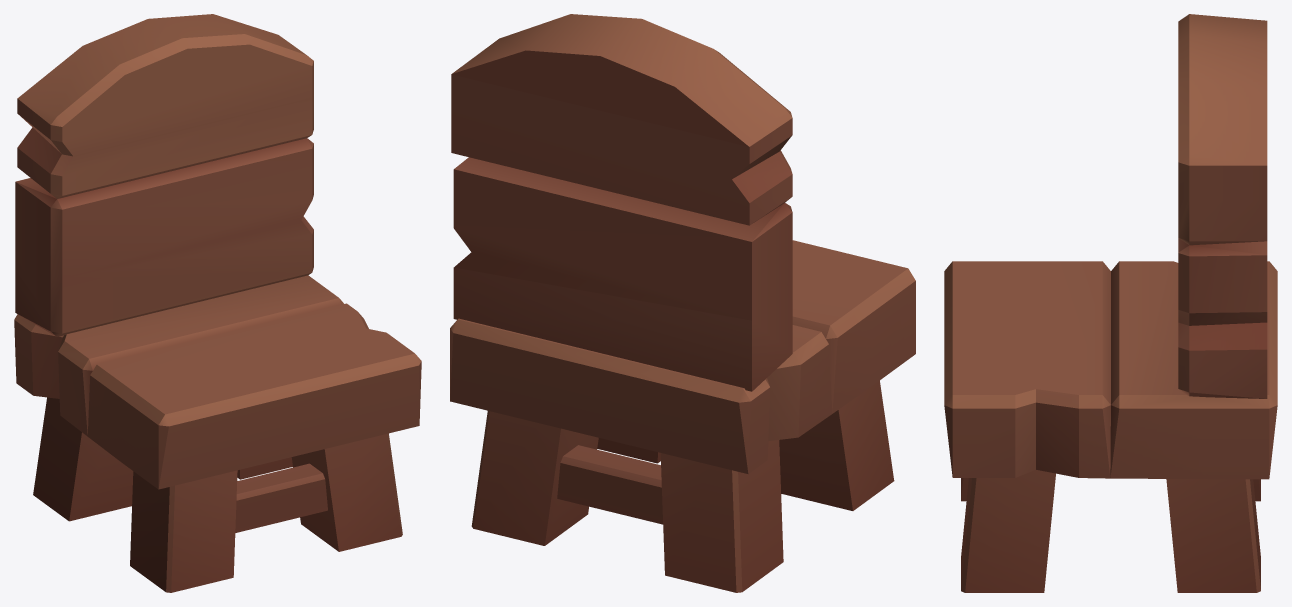
Rendered from fw_chair_oak.glb.
3 renders of one model, left to right at view 1: azimuth 30°, elevation 25°; view 2: azimuth 150°, elevation 25°; view 3: azimuth 270°, elevation 25°, orthographic. The views are drawn at different scales.
Parts seen in each view (by area): view 1: body; view 2: body; view 3: body.
Part boxes in pixels (left/top/right/bottom): body: left=14, top=14, right=421, bottom=592; body: left=450, top=14, right=915, bottom=592; body: left=944, top=14, right=1277, bottom=592.
Bounding box in the file's own units: 0.5625 × 0.9199 × 0.5625.
